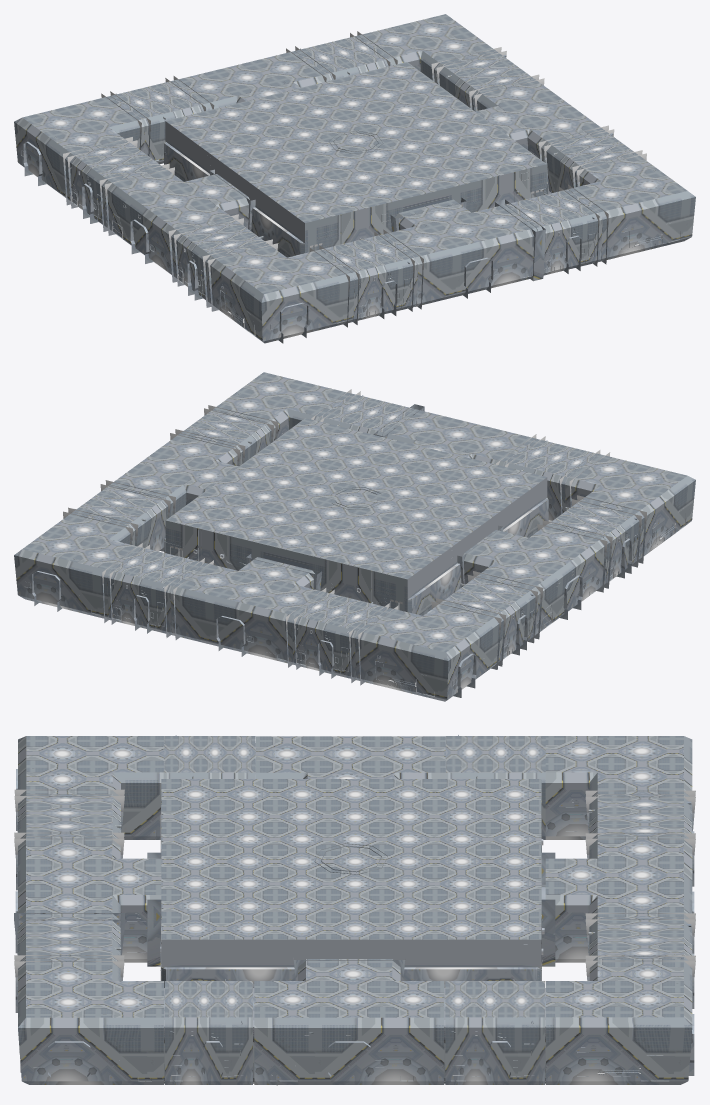
File: Combined_Mesh_root_scene__16_1995fef1__ZombiesII_laboratory_03_d_5a0f8016_c1f257.obj
3 renders of one model, top to bottom at view 1: azimuth 30°, elevation 25°; view 2: azimuth 150°, elevation 25°; view 3: azimuth 270°, elevation 25°, orthographic. The views are drawn at different scales.
Bounding box in the file's own units: 72.61 × 10.34 × 71.75.
726 materials, 726 textured.
